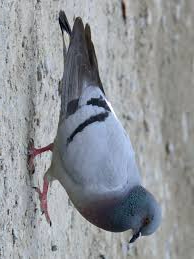pigeon: (24, 7, 161, 246)
